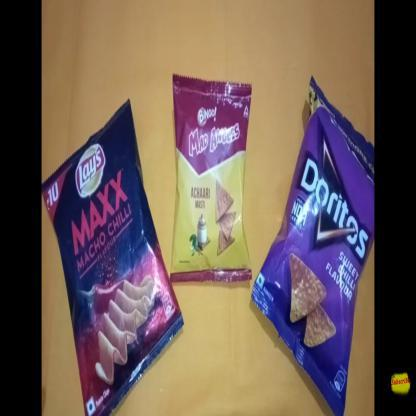max_chili: (43, 114, 170, 385)
